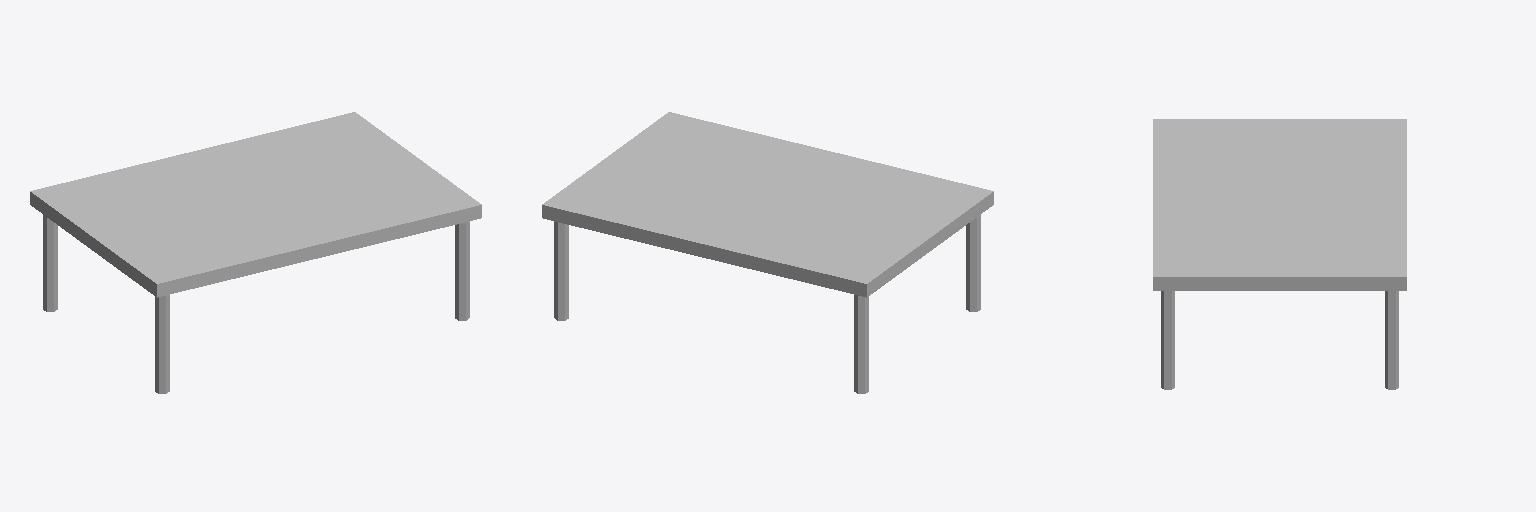
The model's file is Small Long Table.obj.
The picture shows the model from 3 angles: view 1: azimuth 30°, elevation 25°; view 2: azimuth 150°, elevation 25°; view 3: azimuth 270°, elevation 25°; orthographic projection.
Visible parts, largest first — view 1: Surface.001_Cube.000, Leg.007_Cylinder.007, Leg.006_Cylinder.006, Leg.004_Cylinder.004; view 2: Surface.001_Cube.000, Leg.005_Cylinder.005, Leg.004_Cylinder.004, Leg.007_Cylinder.007; view 3: Surface.001_Cube.000, Leg.006_Cylinder.006, Leg.005_Cylinder.005.
Boxes of the visible parts, box(x1,y1,x2,y2) form: Surface.001_Cube.000: box(30, 112, 481, 297); Leg.007_Cylinder.007: box(155, 295, 169, 393); Leg.006_Cylinder.006: box(455, 221, 469, 320); Leg.004_Cylinder.004: box(43, 215, 57, 311); Surface.001_Cube.000: box(542, 112, 993, 297); Leg.005_Cylinder.005: box(554, 221, 568, 320); Leg.004_Cylinder.004: box(854, 295, 868, 393); Leg.007_Cylinder.007: box(966, 215, 980, 311); Surface.001_Cube.000: box(1153, 119, 1406, 290); Leg.006_Cylinder.006: box(1161, 291, 1174, 389); Leg.005_Cylinder.005: box(1385, 291, 1398, 389).
Bounding box in the file's own units: 7.54 × 2.57 × 5.1.